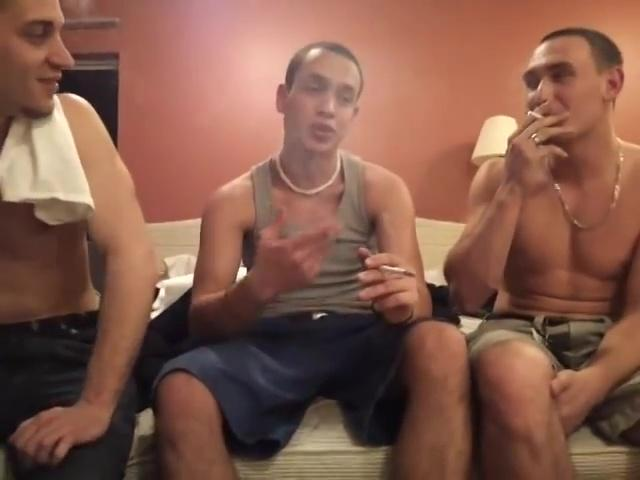cigarette: (375, 262, 416, 279), (526, 109, 545, 121)
